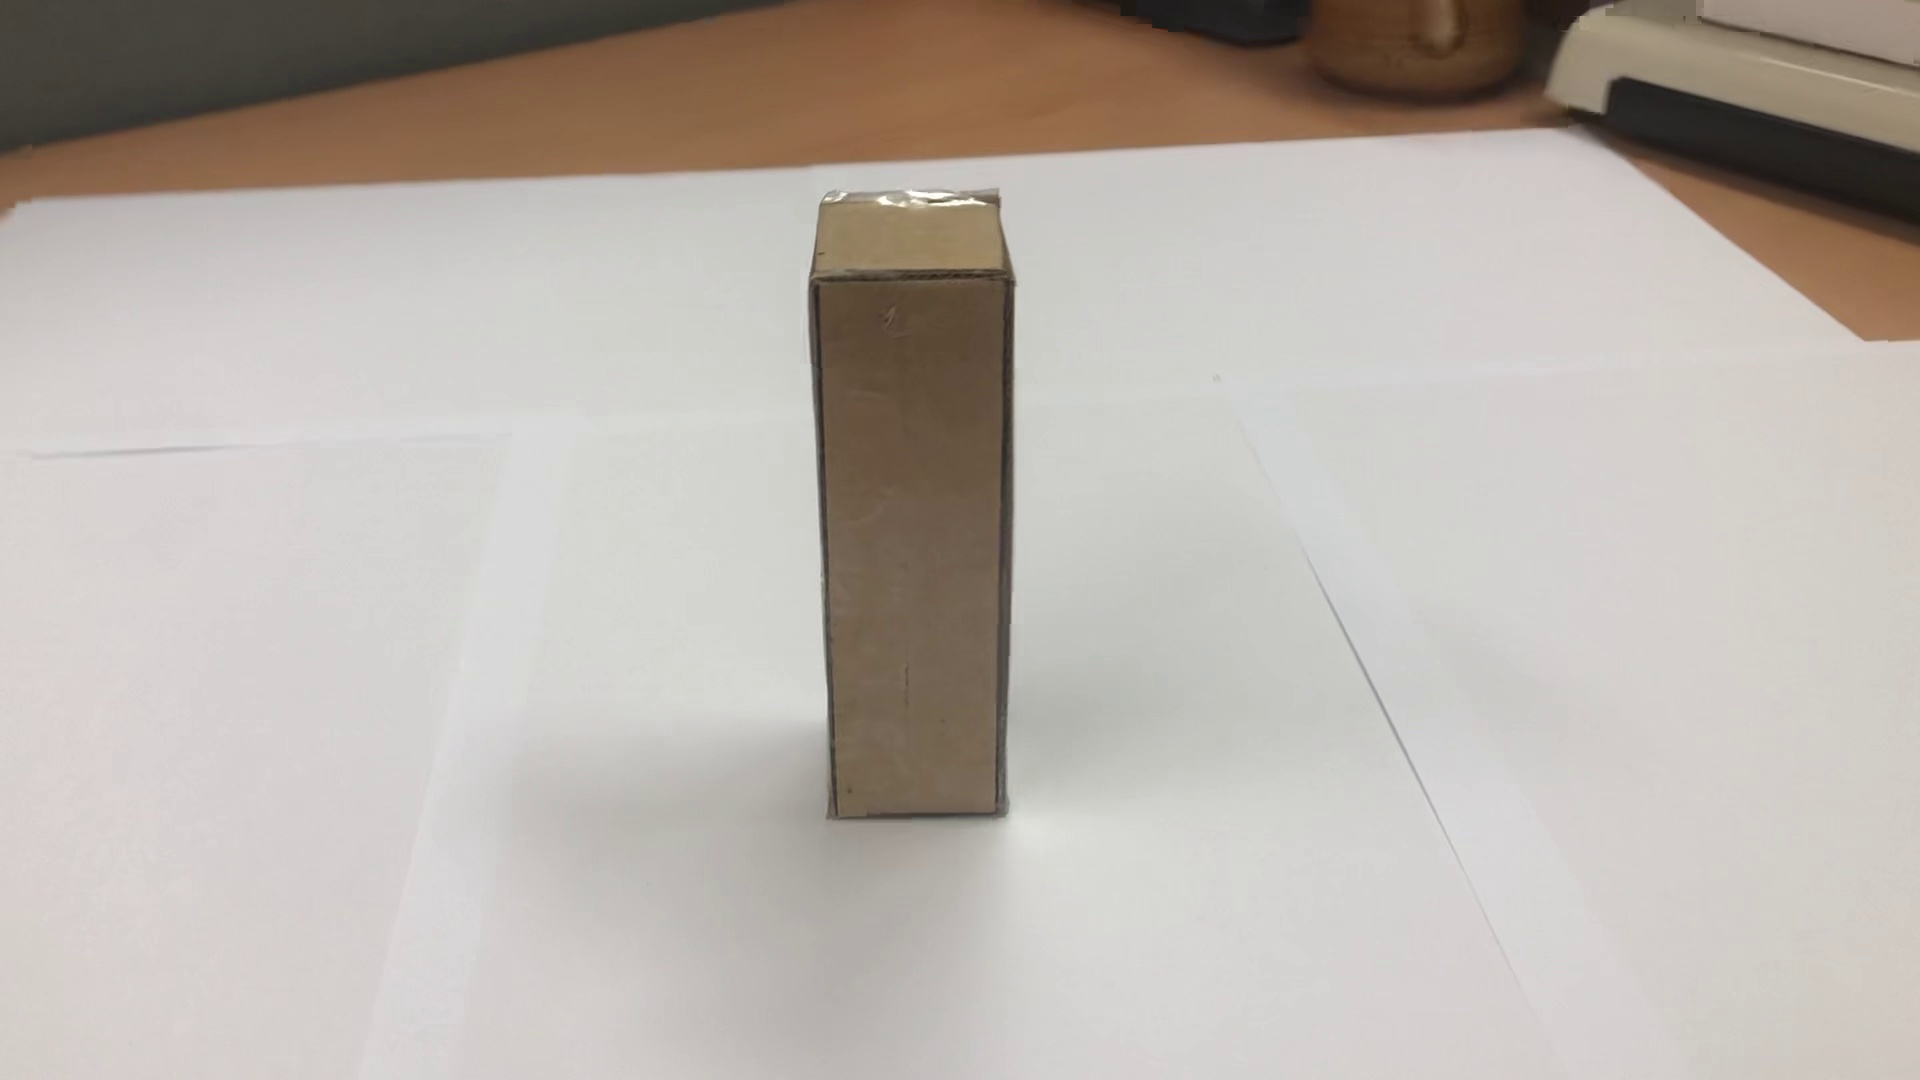box: (767, 173, 1072, 827)
